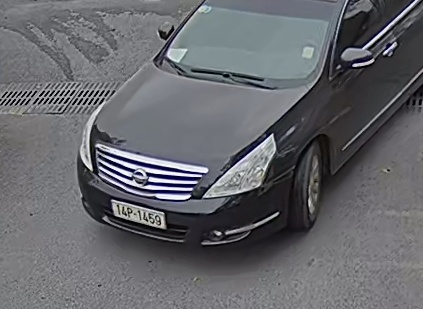vehicle plate: (105, 194, 167, 229)
